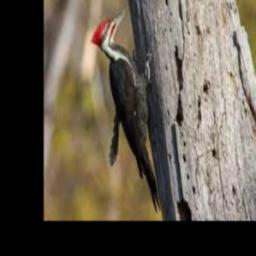Woodpecker: (91, 6, 161, 212)
